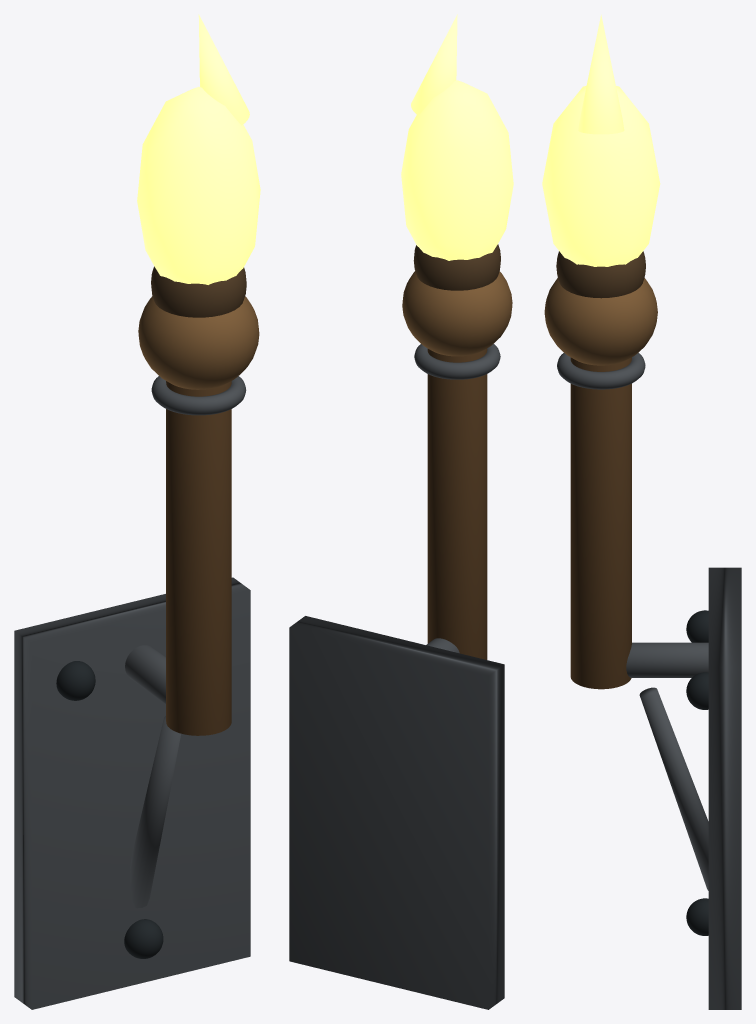
Rendered from TASK007-PROP-UNITY-PROPS_TORCH_WALL.fbx.
3 renders of one model, left to right at view 1: azimuth 30°, elevation 25°; view 2: azimuth 150°, elevation 25°; view 3: azimuth 270°, elevation 25°, orthographic. The views are drawn at different scales.
Parts seen in each view (by area): view 1: part_plate, part_handle, part_flame_out, part_rag_lo, part_strut, part_rag_hi, part_flame_tip, part_collar, part_arm, part_bolt_c, part_bolt_b; view 2: part_plate, part_handle, part_flame_out, part_rag_lo, part_rag_hi, part_flame_tip, part_collar; view 3: part_handle, part_flame_out, part_plate, part_rag_lo, part_strut, part_flame_tip, part_arm, part_rag_hi, part_collar, part_bolt_c, part_bolt_a, part_bolt_b.
Part boxes in pixels (bbox=[...]): part_plate: bbox=[14, 577, 250, 1009]; part_handle: bbox=[166, 381, 231, 735]; part_flame_out: bbox=[137, 86, 260, 284]; part_rag_lo: bbox=[138, 296, 259, 389]; part_strut: bbox=[130, 716, 180, 908]; part_rag_hi: bbox=[151, 266, 246, 317]; part_flame_tip: bbox=[198, 14, 249, 125]; part_collar: bbox=[151, 376, 246, 415]; part_arm: bbox=[125, 645, 165, 703]; part_bolt_c: bbox=[124, 919, 163, 958]; part_bolt_b: bbox=[56, 661, 95, 700]; part_plate: bbox=[289, 616, 504, 1009]; part_handle: bbox=[427, 348, 487, 659]; part_flame_out: bbox=[401, 80, 513, 260]; part_rag_lo: bbox=[402, 271, 512, 356]; part_rag_hi: bbox=[413, 244, 500, 290]; part_flame_tip: bbox=[411, 14, 457, 115]; part_collar: bbox=[414, 344, 500, 379]; part_handle: bbox=[570, 357, 631, 689]; part_flame_out: bbox=[542, 85, 660, 266]; part_plate: bbox=[708, 567, 741, 1009]; part_rag_lo: bbox=[544, 278, 657, 365]; part_strut: bbox=[639, 687, 708, 890]; part_flame_tip: bbox=[578, 14, 624, 134]; part_arm: bbox=[626, 642, 708, 677]; part_rag_hi: bbox=[556, 251, 645, 298]; part_collar: bbox=[557, 353, 645, 389]; part_bolt_c: bbox=[686, 898, 708, 935]; part_bolt_a: bbox=[686, 672, 708, 709]; part_bolt_b: bbox=[686, 610, 708, 642].
Size of the model in its own units: 20 by 88.35 by 16.9.
